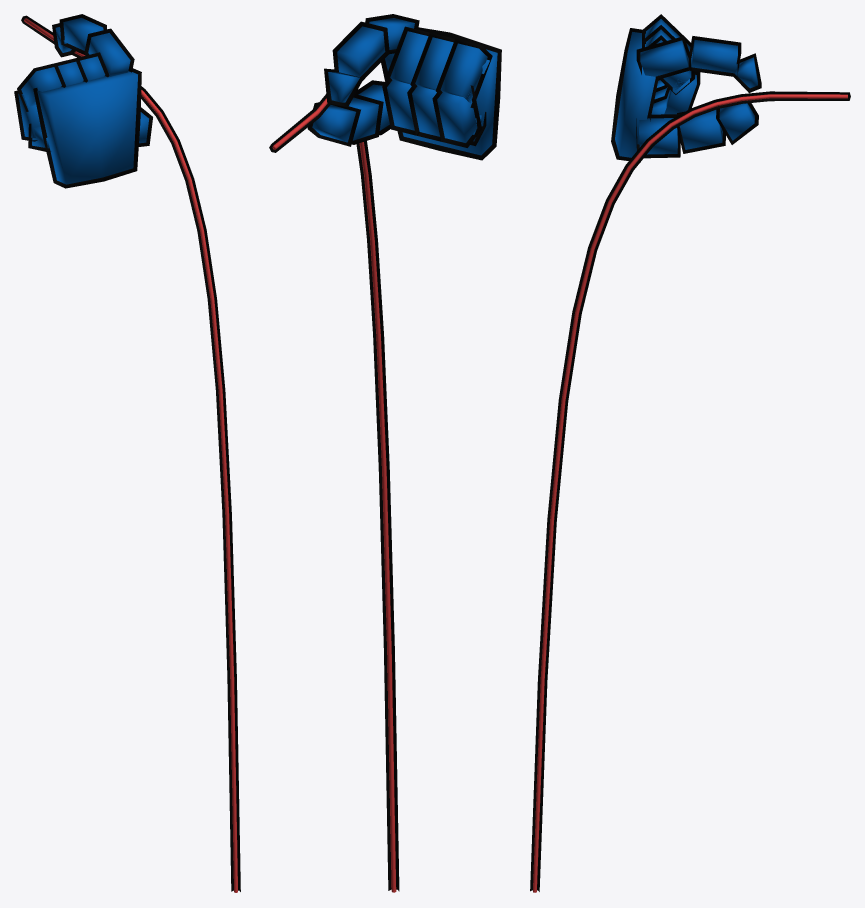
The model's file is ManoHilo.glb.
3 views of the same model, side by side, from view 1: azimuth 30°, elevation 25°; view 2: azimuth 150°, elevation 25°; view 3: azimuth 270°, elevation 25° (orthographic). The views are drawn at different scales.
Visible parts, largest first — view 1: RoboHand; view 2: RoboHand; view 3: RoboHand.
Boxes of the visible parts, left/top/right/bottom form: RoboHand: left=14, top=14, right=240, bottom=892; RoboHand: left=269, top=14, right=501, bottom=892; RoboHand: left=530, top=14, right=850, bottom=892.
Bounding box in the file's own units: 12.13 × 65.69 × 23.27.
